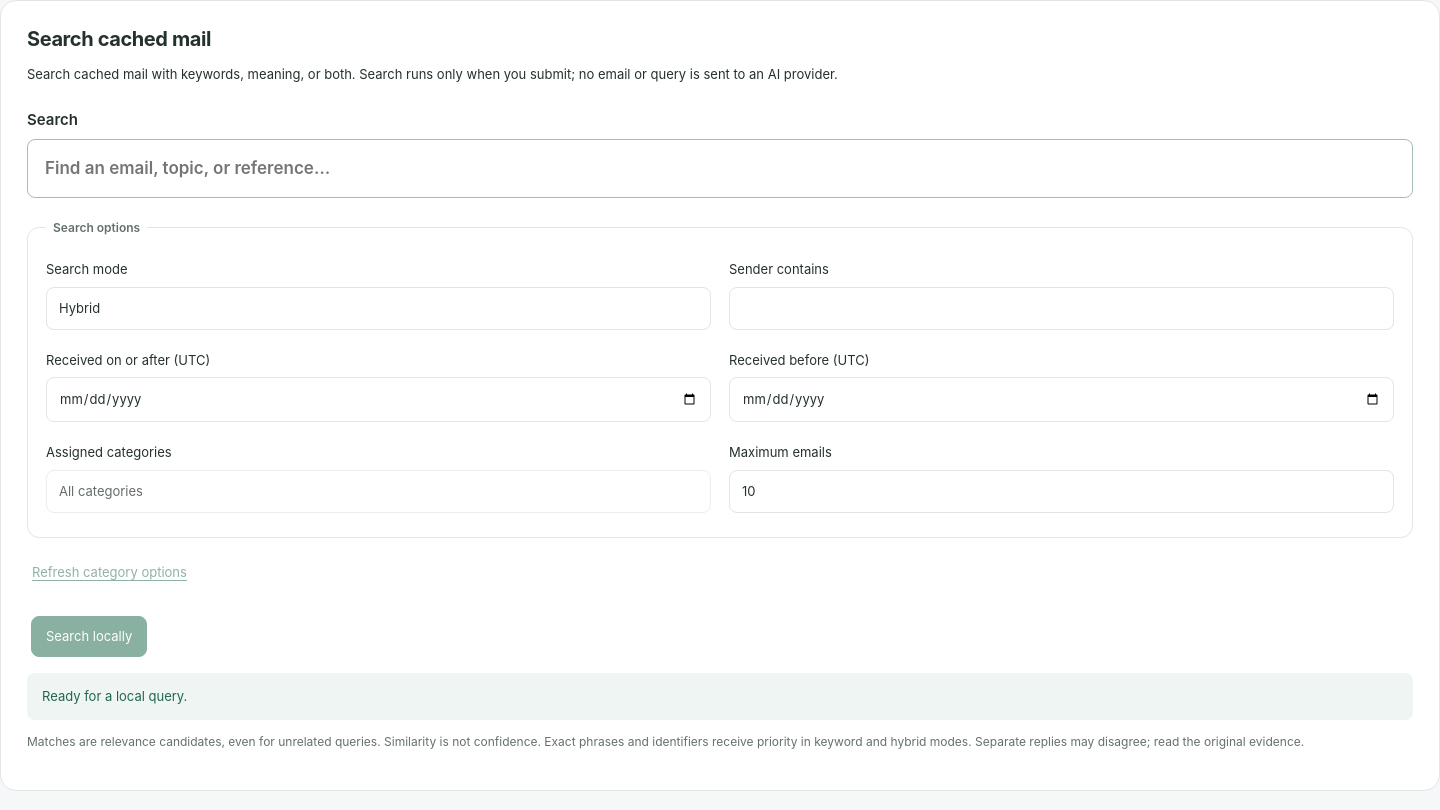
Test: selects keyword mode and discloses fallback and partial index coverage
The width and height of the screenshot is (1440, 810).
Step 1. Select "Keyword only" in the dropdown labelled "Search mode" → (378, 308), box [46,287,711,330]
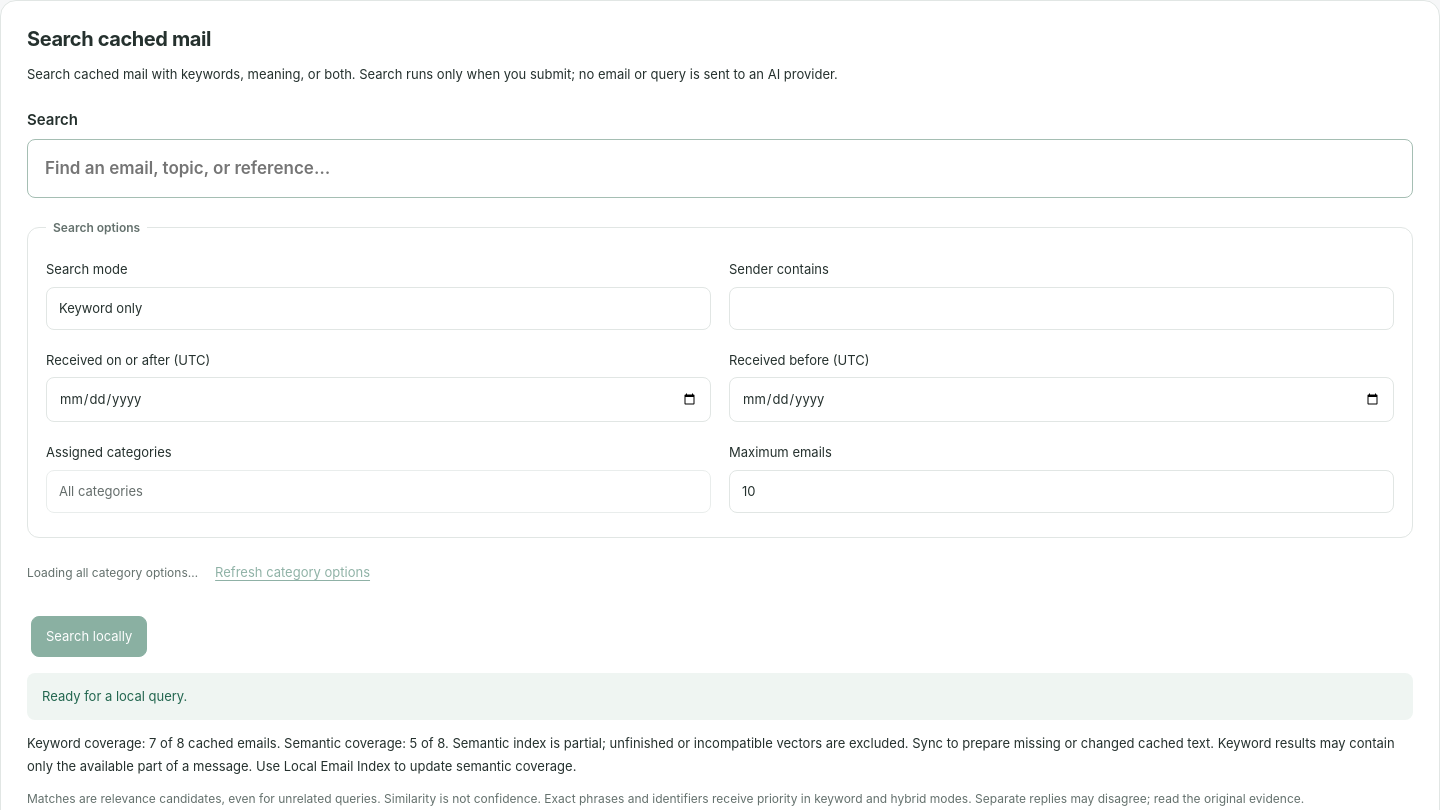
Step 2. Type "Q7M4ZP" into the search field labelled "Search" → (720, 168), box [27,139,1413,198]
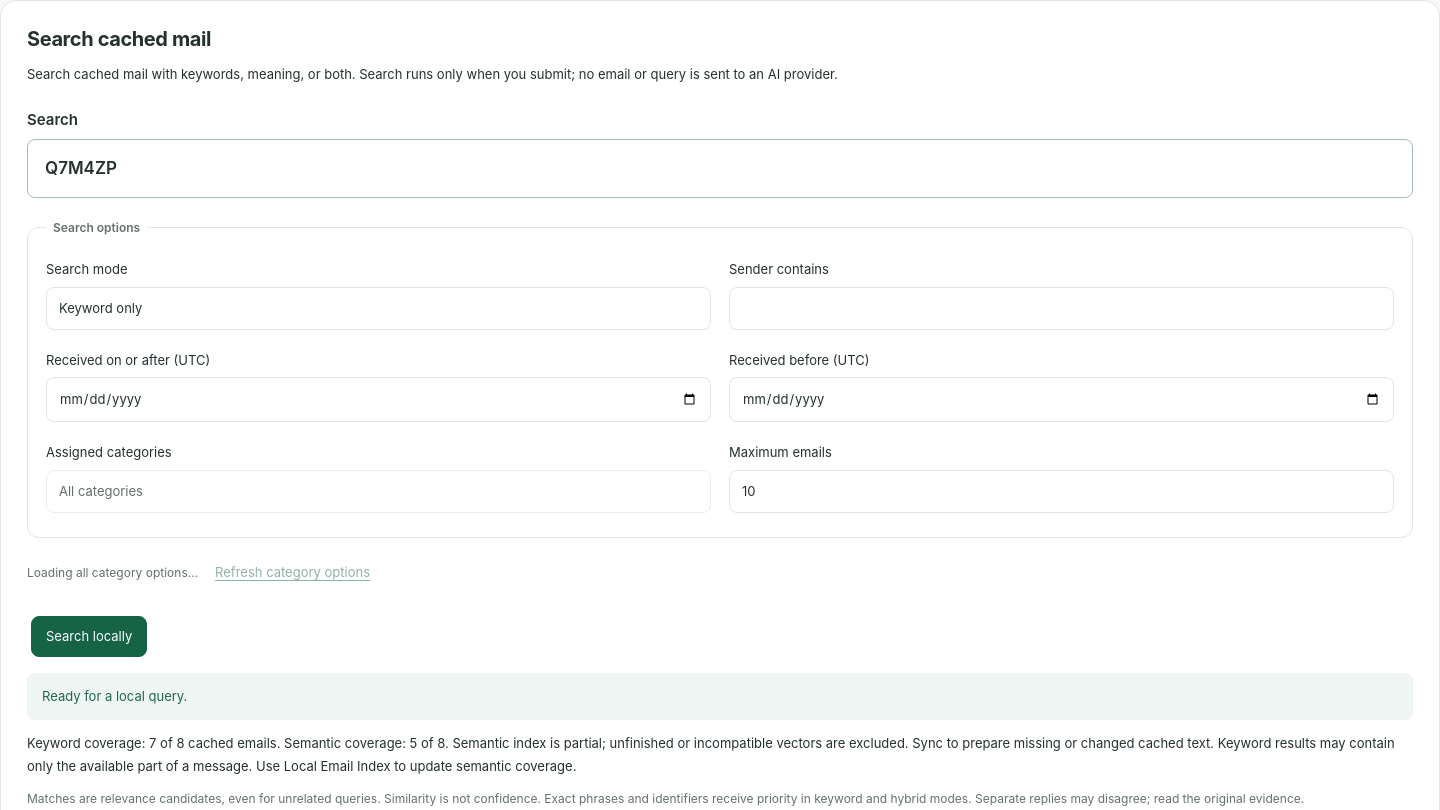
Step 3. Click the button "Search locally" → click(89, 636), box [31,616,147,657]
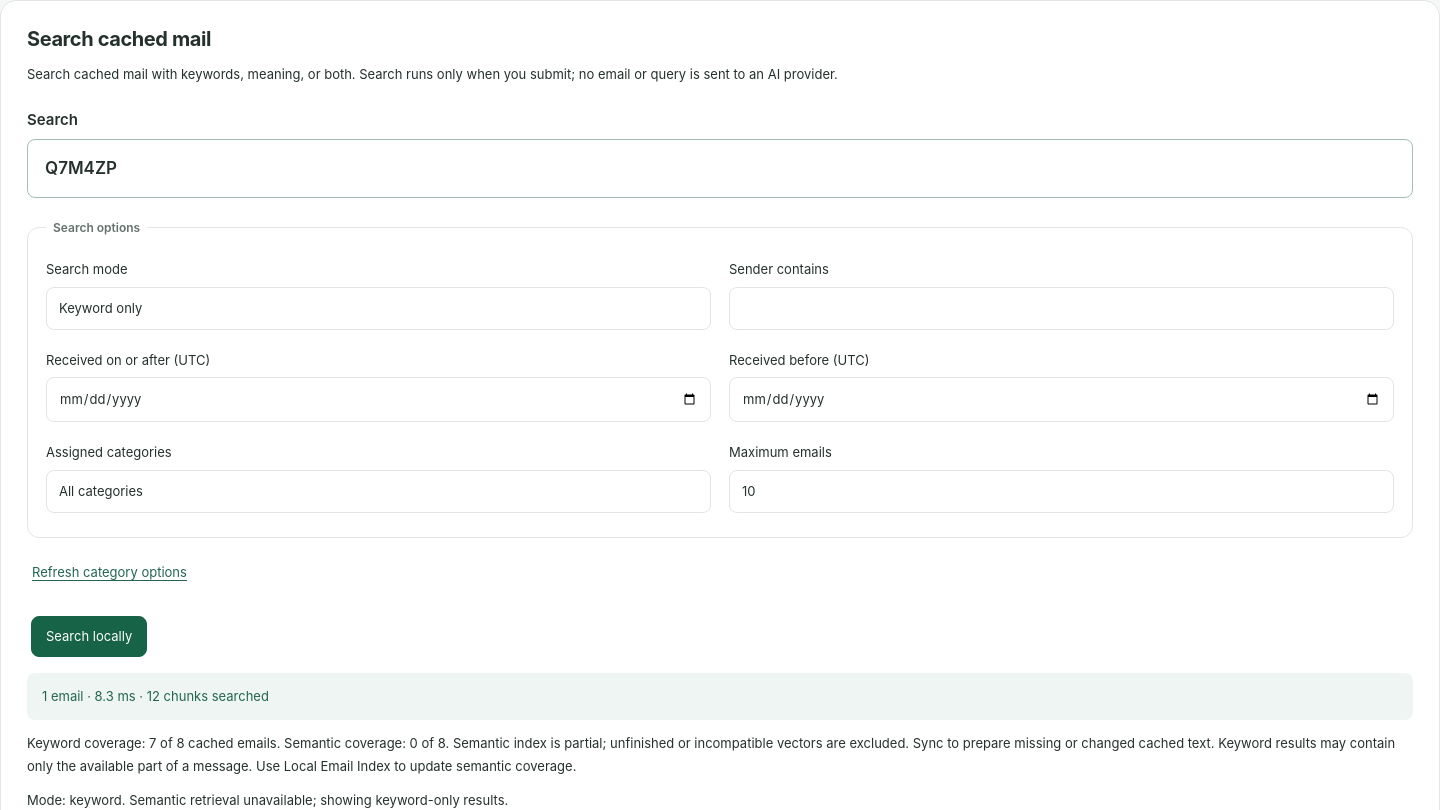
Check: the text "Semantic index is partial" is shown, box [449,735,909,751]
Check: the text "Keyword coverage: 7 of 8" is shown, box [27,732,1413,778]
Check: the text "Semantic retrieval unavailable; showing keyword-only results" is shown, box [129,792,508,808]
